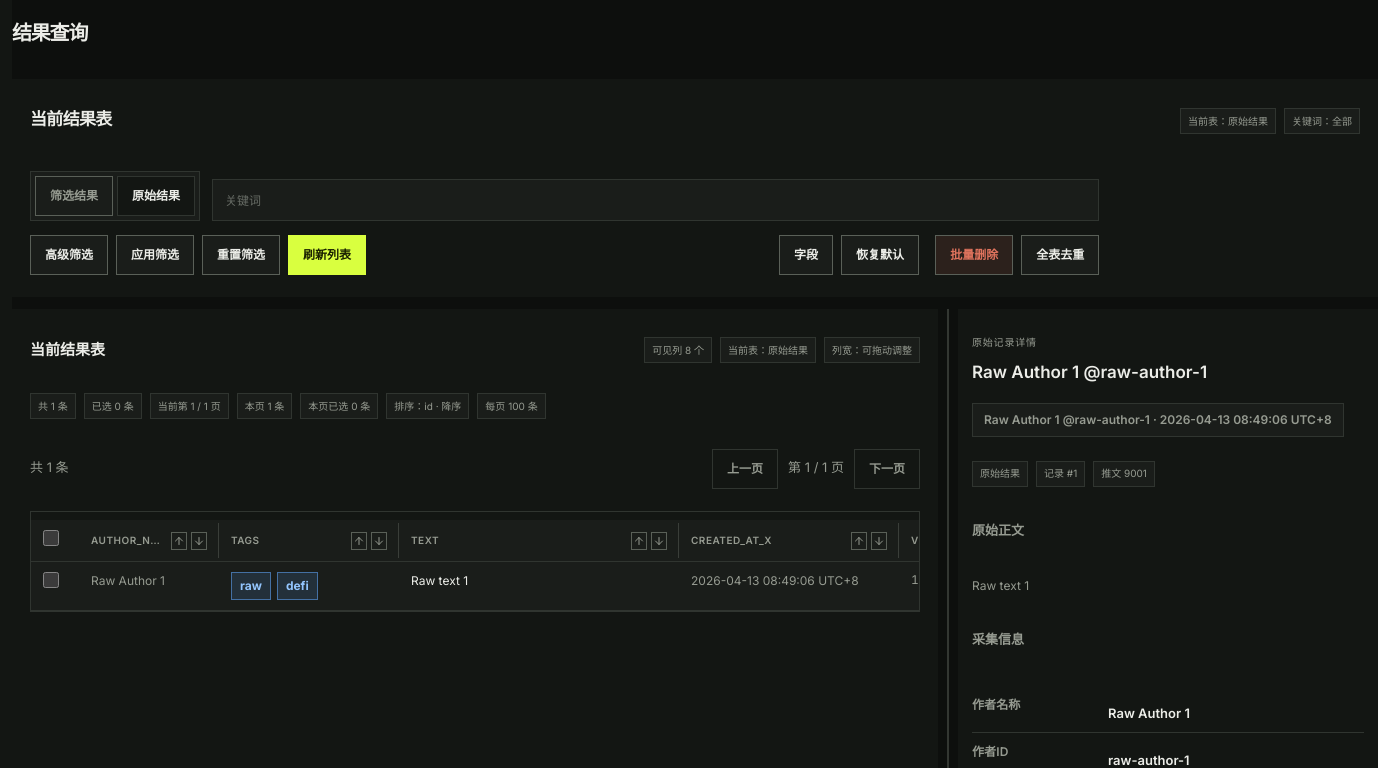
it: ResultsPage › renders refresh loading state as a dedicated block before the table instead of inside the table flow
Expected: the text "Raw text 1" in the row of "11" is shown, [411,573,468,588]
Click the button "刷新列表" at (327, 255), box [288,235,366,275]
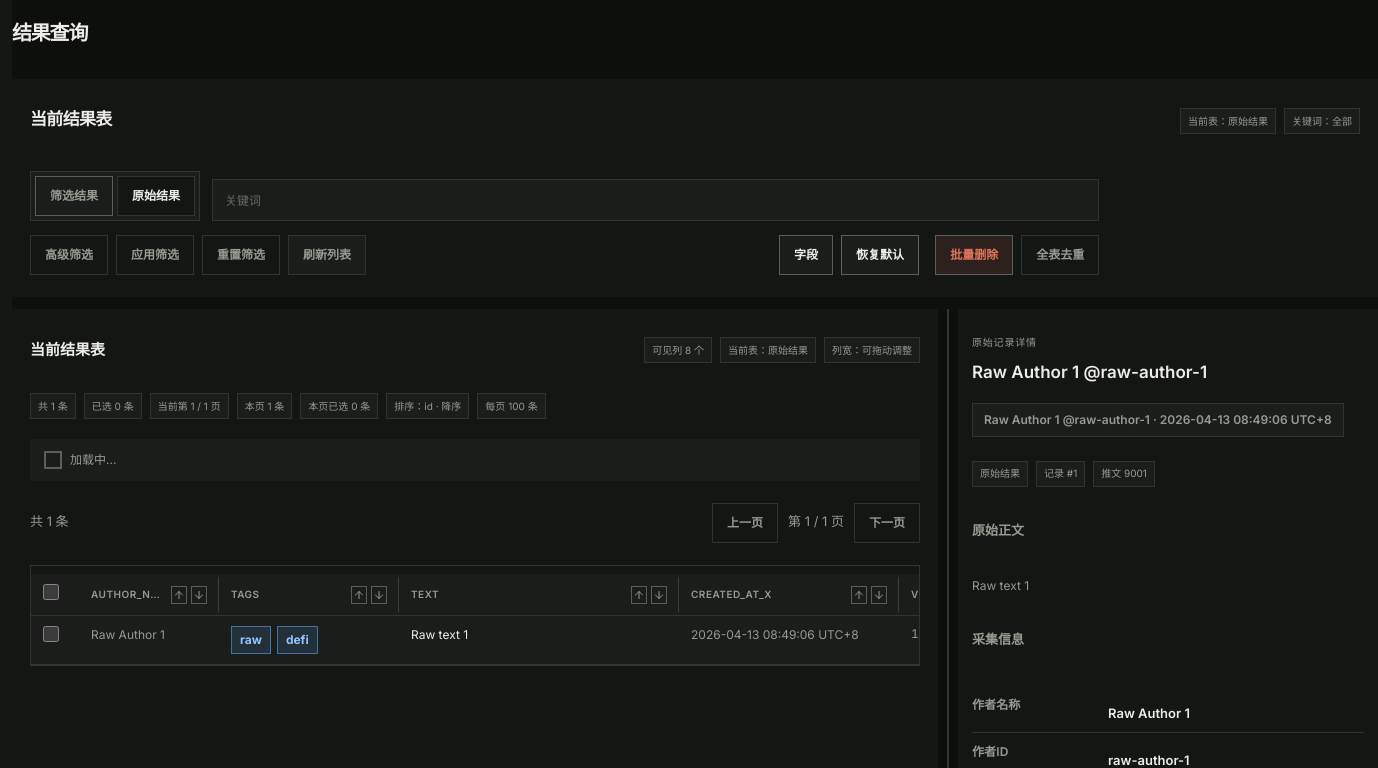
Now the message with test id "results-table-loading-state" reads "加载中...", box [70,452,116,467]
